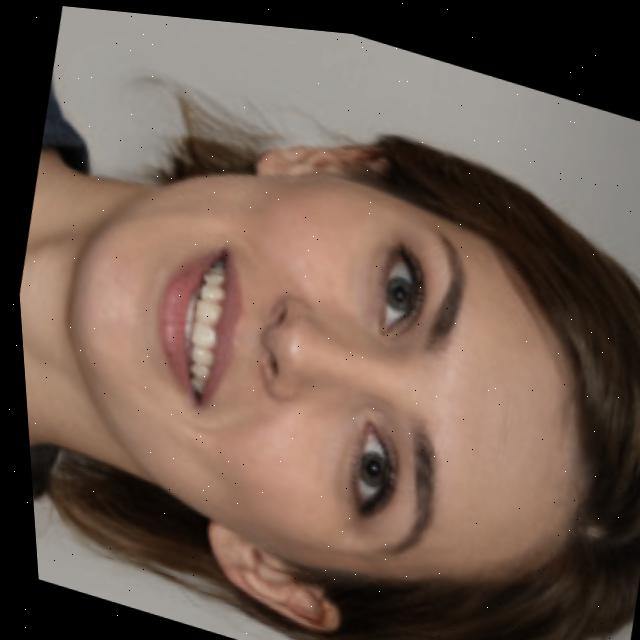happy: (2, 36, 640, 640)
